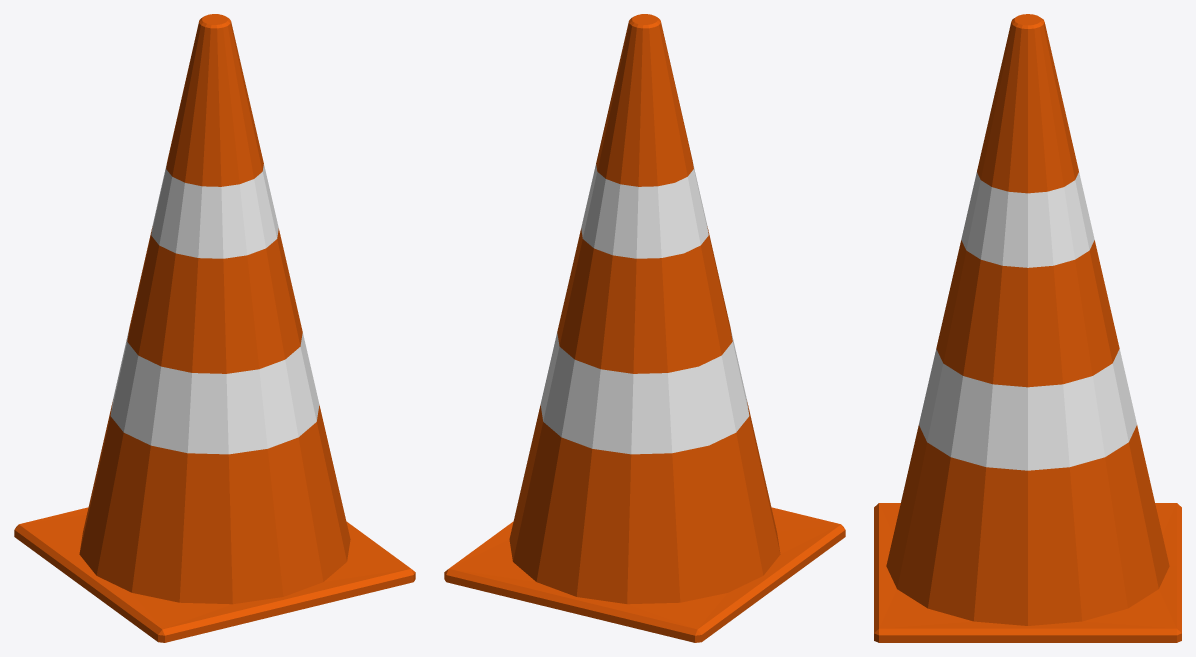
3 views of the same model, side by side, from view 1: azimuth 30°, elevation 25°; view 2: azimuth 150°, elevation 25°; view 3: azimuth 270°, elevation 25° (orthographic). The views are drawn at different scales.
Visible parts, largest first — view 1: Cone; view 2: Cone; view 3: Cone.
Boxes of the visible parts, box(x1,y1,x2,y2) form: Cone: box(14, 14, 415, 642); Cone: box(444, 14, 845, 642); Cone: box(874, 14, 1181, 642).
Bounding box in the file's own units: 0.5 × 1 × 0.4999.
